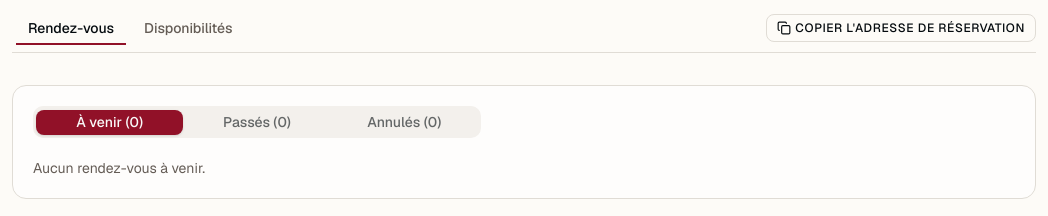
Test case: RdvManager › copie l'adresse de réservation
This screenshot has width=1048, height=216.
Step 1. Click the button "Copier l'adresse de réservation" → (901, 28), box [766, 14, 1036, 42]
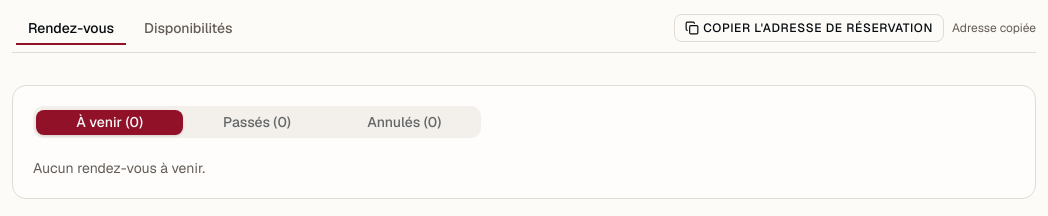
Check: the text "Adresse copiée" is shown, box [952, 20, 1036, 36]
